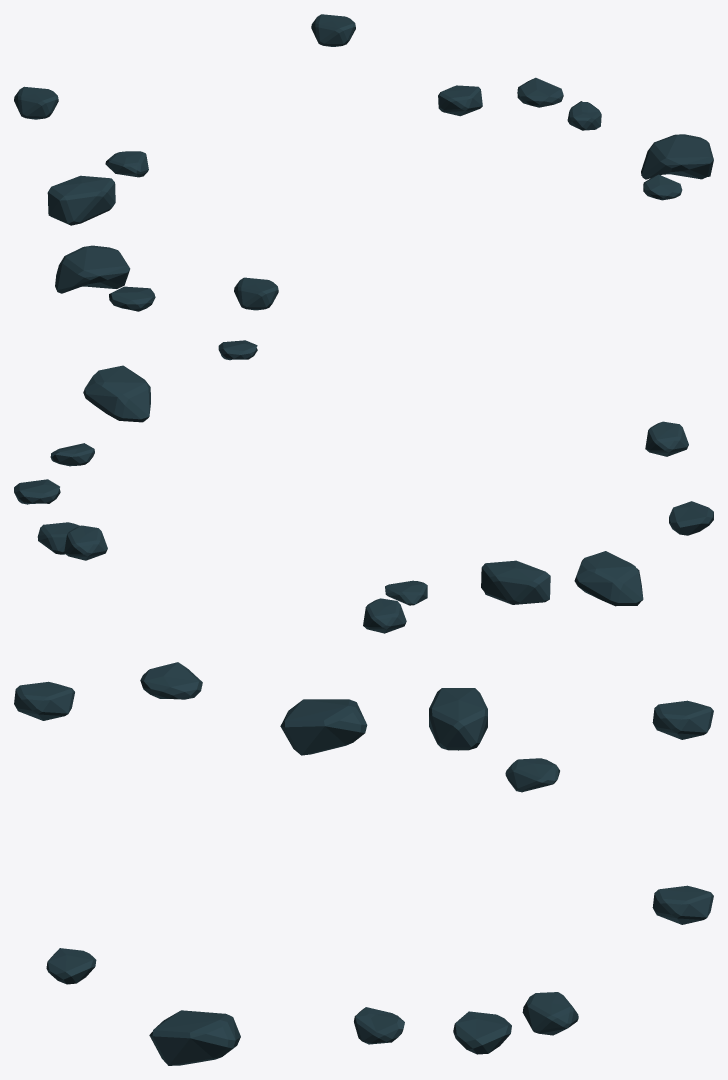
File: rock.gltf
3 renders of one model, top to bottom at view 1: azimuth 30°, elevation 25°; view 2: azimuth 150°, elevation 25°; view 3: azimuth 270°, elevation 25°, orthographic. The views are drawn at different scales.
Parts seen in each view (by area): view 1: Icosphere.014, Icosphere.013, Icosphere.020, Icosphere.016, Icosphere.009, Icosphere.018, Icosphere.008, Icosphere.007, Icosphere.011, Icosphere.015, Icosphere.006, Icosphere.012; view 2: Icosphere.020, Icosphere.014, Icosphere.013, Icosphere.018, Icosphere.009, Icosphere.016, Icosphere.015, Icosphere.007, Icosphere.008, Icosphere.011, Icosphere.006, Icosphere.012; view 3: Icosphere.020, Icosphere.014, Icosphere.013, Icosphere.016, Icosphere.009, Icosphere.018, Icosphere.007, Icosphere.008, Icosphere.015, Icosphere.006, Icosphere.011, Icosphere.012.
Part boxes in pixels (box(x1,y1,x2,y2)): Icosphere.014: box(55, 245, 130, 293); Icosphere.013: box(47, 175, 115, 225); Icosphere.020: box(641, 134, 713, 179); Icosphere.016: box(234, 277, 278, 310); Icosphere.009: box(311, 14, 355, 46); Icosphere.018: box(14, 86, 58, 119); Icosphere.008: box(438, 85, 482, 116); Icosphere.007: box(517, 77, 563, 107); Icosphere.011: box(105, 151, 148, 177); Icosphere.015: box(109, 286, 155, 311); Icosphere.006: box(567, 101, 601, 130); Icosphere.012: box(643, 174, 682, 200); Icosphere.020: box(83, 365, 150, 422); Icosphere.014: box(574, 551, 643, 606); Icosphere.013: box(481, 560, 550, 604); Icosphere.018: box(363, 598, 406, 633); Icosphere.009: box(64, 525, 107, 560); Icosphere.016: box(645, 421, 688, 456); Icosphere.015: box(669, 501, 713, 535); Icosphere.007: box(14, 479, 60, 504); Icosphere.008: box(37, 522, 79, 554); Icosphere.011: box(385, 580, 427, 605); Icosphere.006: box(50, 443, 94, 466); Icosphere.012: box(218, 340, 257, 360); Icosphere.020: box(149, 1010, 240, 1065); Icosphere.014: box(280, 699, 367, 755); Icosphere.013: box(429, 688, 487, 750); Icosphere.016: box(14, 681, 74, 720); Icosphere.009: box(652, 885, 713, 924); Icosphere.018: box(652, 700, 713, 739); Icosphere.007: box(453, 1011, 511, 1054); Icosphere.008: box(522, 992, 578, 1035); Icosphere.015: box(140, 662, 202, 699); Icosphere.006: box(354, 1007, 404, 1044); Icosphere.011: box(505, 758, 559, 792); Icosphere.012: box(46, 948, 96, 984).
Bounding box in the file's own units: 22.59 × 2.69 × 17.75.
